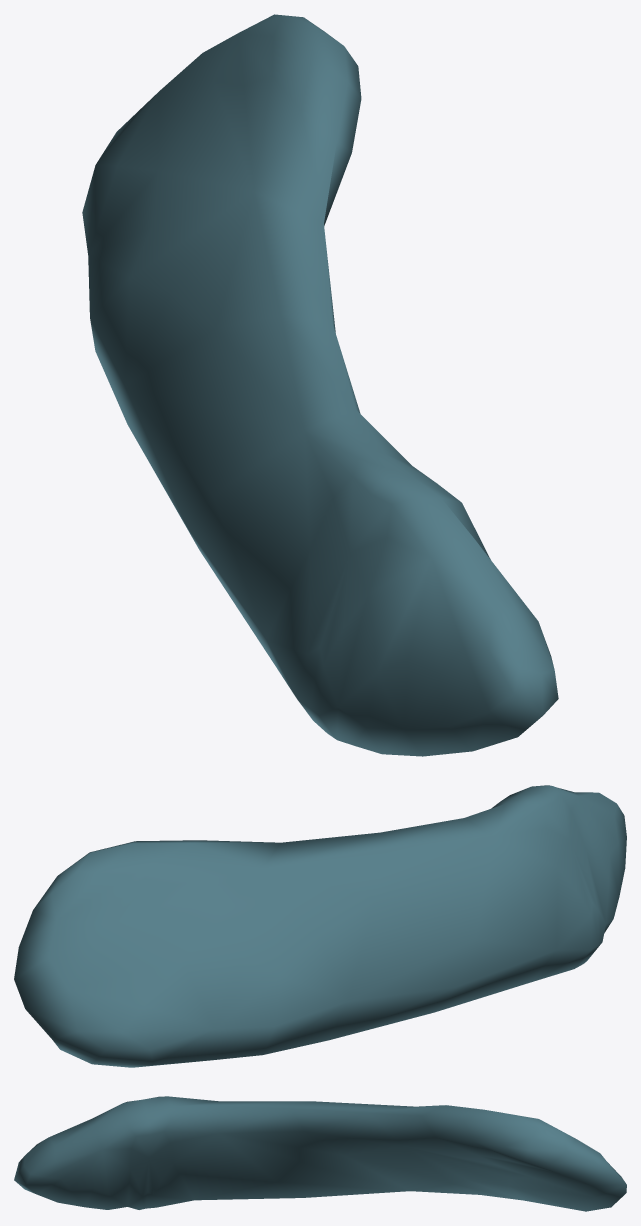
Rendered from Sesamoid_bones_foot_right_002.glb.
3 views of the same model, one above another, from view 1: azimuth 30°, elevation 25°; view 2: azimuth 150°, elevation 25°; view 3: azimuth 270°, elevation 25° (orthographic). The views are drawn at different scales.
Visible parts, largest first — view 1: Sesamoid_bones_of_foot.r.002_Generated_Mesh_From_X3D.252; view 2: Sesamoid_bones_of_foot.r.002_Generated_Mesh_From_X3D.252; view 3: Sesamoid_bones_of_foot.r.002_Generated_Mesh_From_X3D.252.
Part boxes in pixels (x1,y1,x2,y2): Sesamoid_bones_of_foot.r.002_Generated_Mesh_From_X3D.252: [82, 14, 558, 756]; Sesamoid_bones_of_foot.r.002_Generated_Mesh_From_X3D.252: [14, 785, 626, 1067]; Sesamoid_bones_of_foot.r.002_Generated_Mesh_From_X3D.252: [14, 1096, 626, 1211].
Size of the model in its own units: 0.00236 by 0.00186 by 0.0059.
